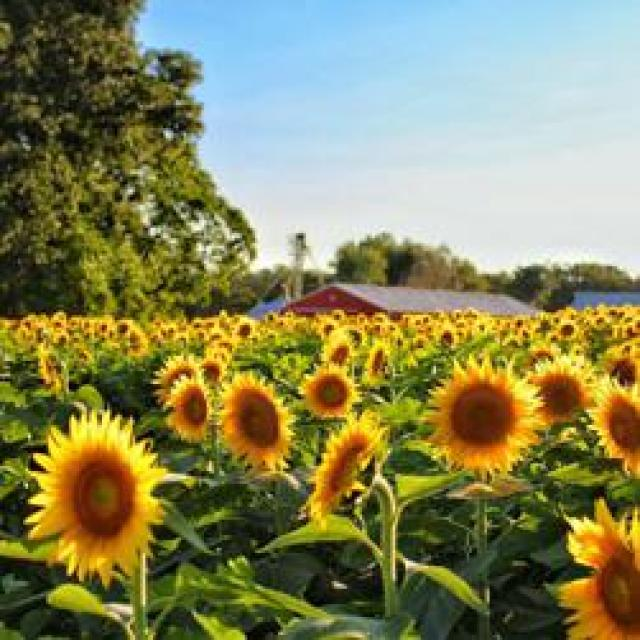sunflower: (37, 417, 170, 594), (543, 499, 640, 640), (427, 358, 539, 479), (206, 368, 298, 474), (307, 413, 384, 521), (584, 370, 640, 477), (529, 349, 593, 429), (157, 376, 210, 448), (306, 363, 365, 420), (318, 328, 356, 376), (357, 342, 398, 385), (553, 313, 579, 347), (434, 328, 462, 353), (108, 320, 139, 340), (233, 320, 259, 343)
